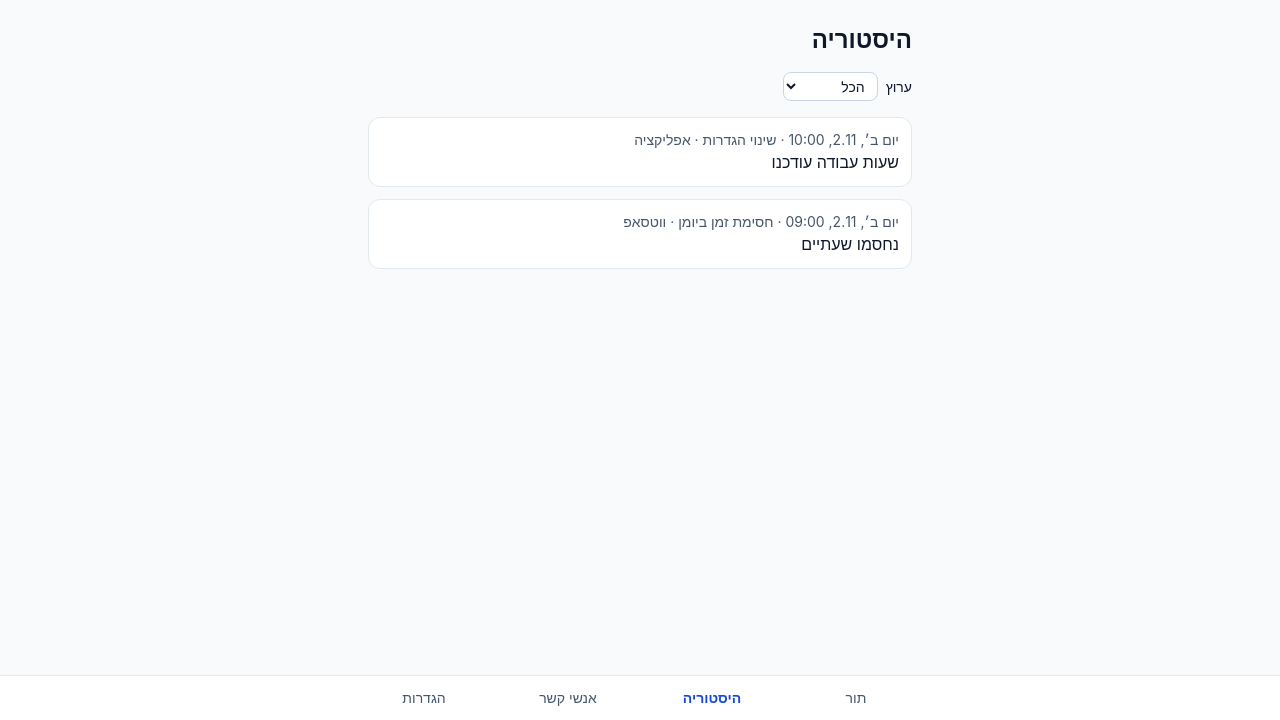
it: history › filters by channel
Step 1. Select "אפליקציה" in the dropdown labelled "ערוץ" → (830, 86), box [783, 72, 878, 101]
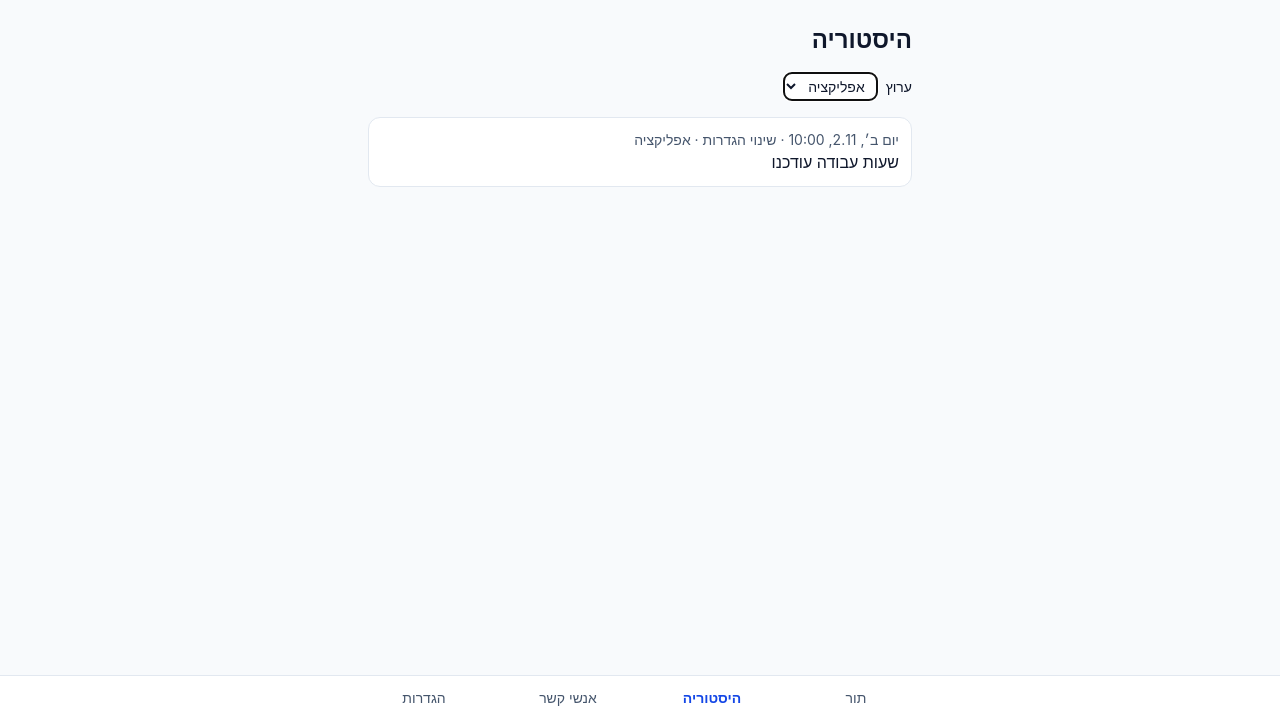
Expected: the text "שעות עבודה עודכנו" is shown, [772, 152, 899, 172]
Now the text "נחסמו שעתיים" is gone
